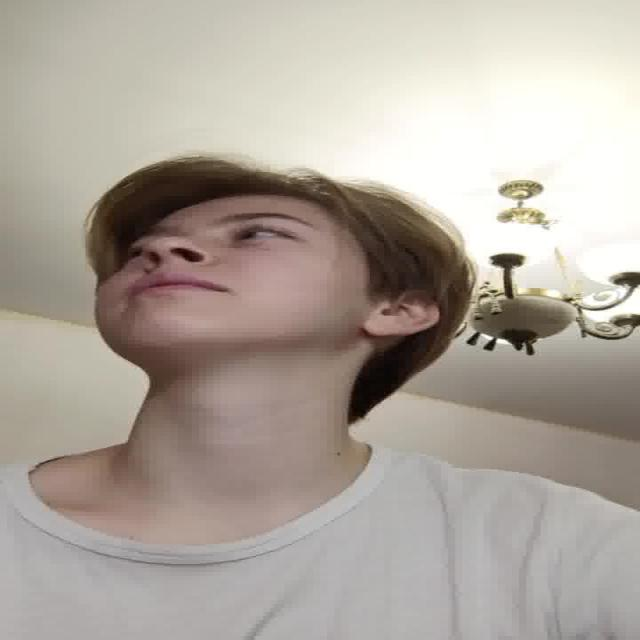earlobe: (366, 289, 440, 337)
